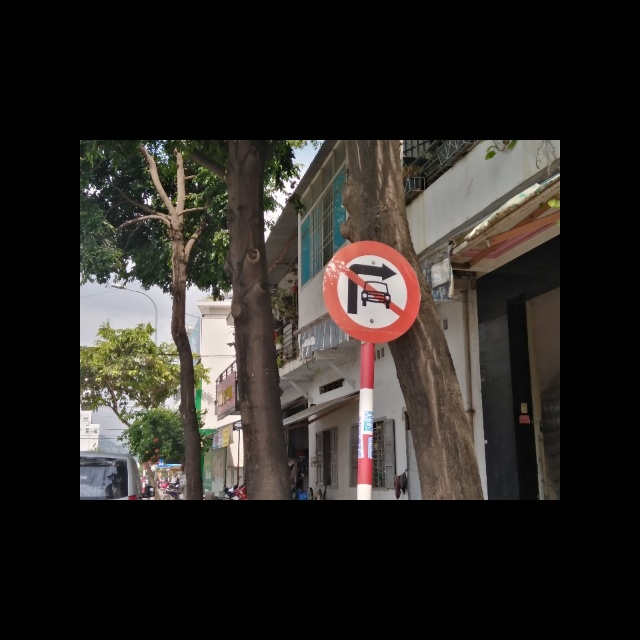Cấm xe ô tô rẽ trái: (322, 240, 427, 345)
